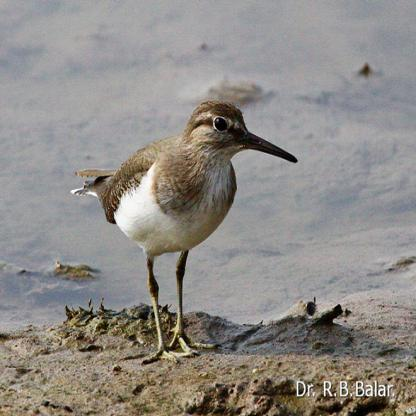Burung: (73, 102, 300, 366)
